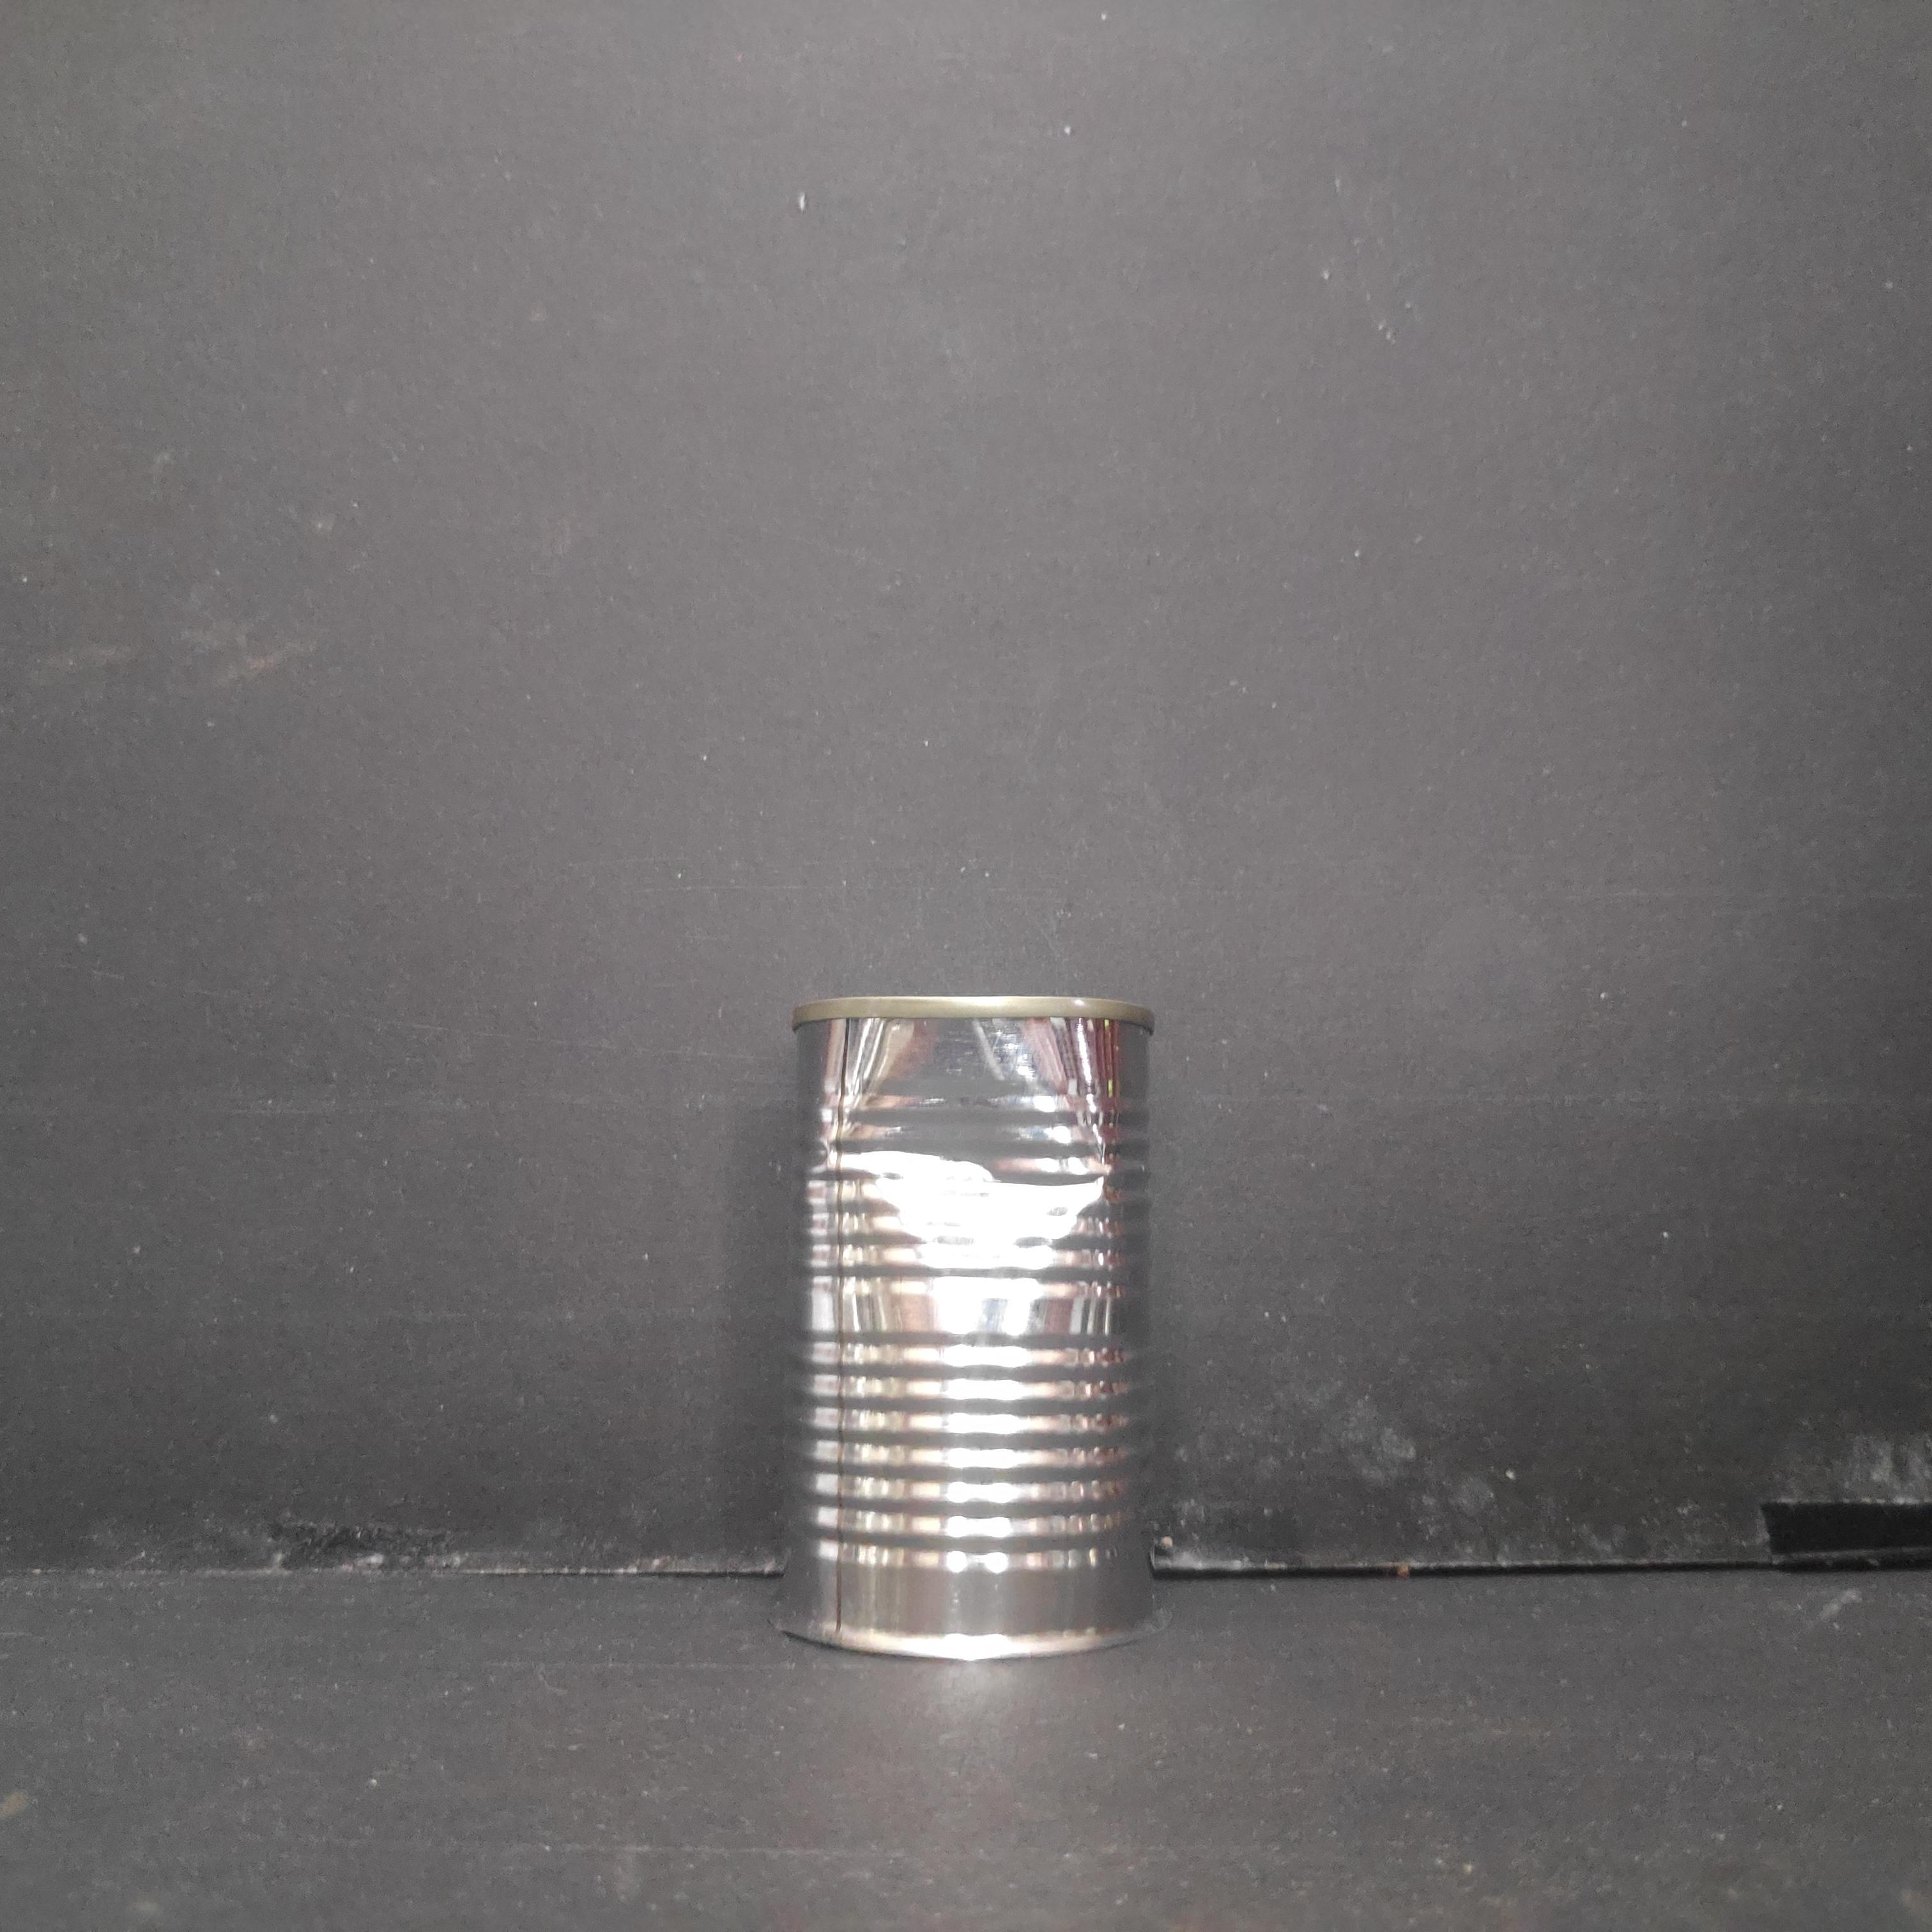Minor Defect: (775, 982, 1164, 1681)
